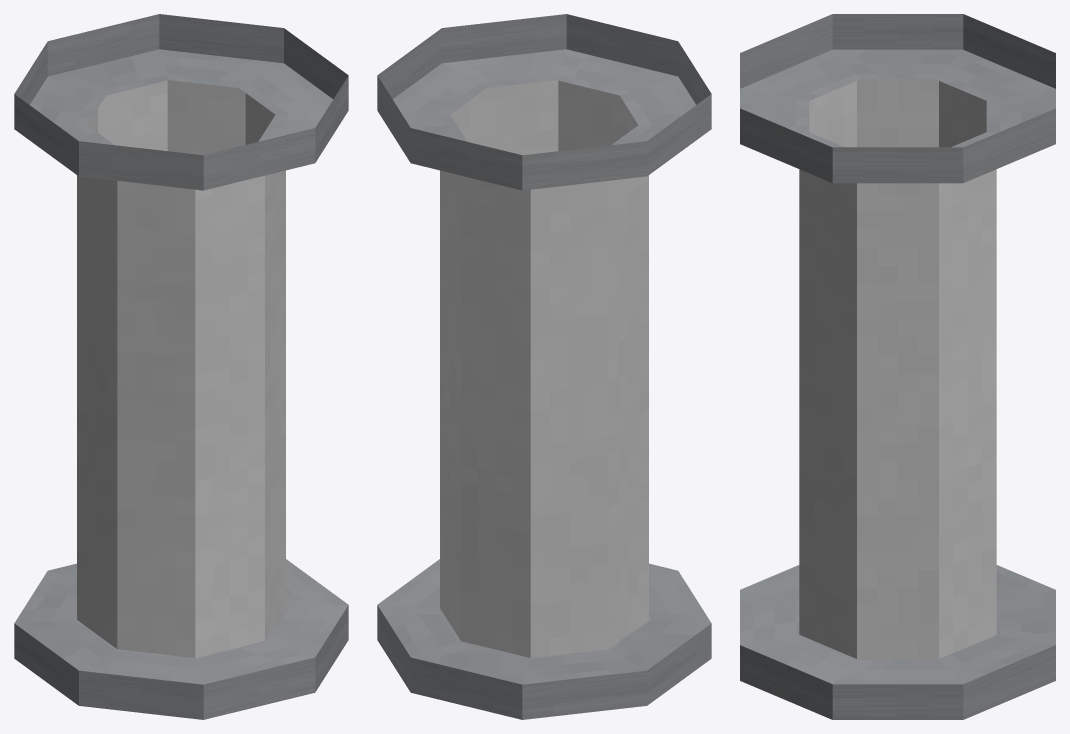
The model's file is connection_3.obj.
3 views of the same model, side by side, from view 1: azimuth 30°, elevation 25°; view 2: azimuth 150°, elevation 25°; view 3: azimuth 270°, elevation 25° (orthographic).
Size of the model in its own units: 0.5 by 1 by 0.5.
